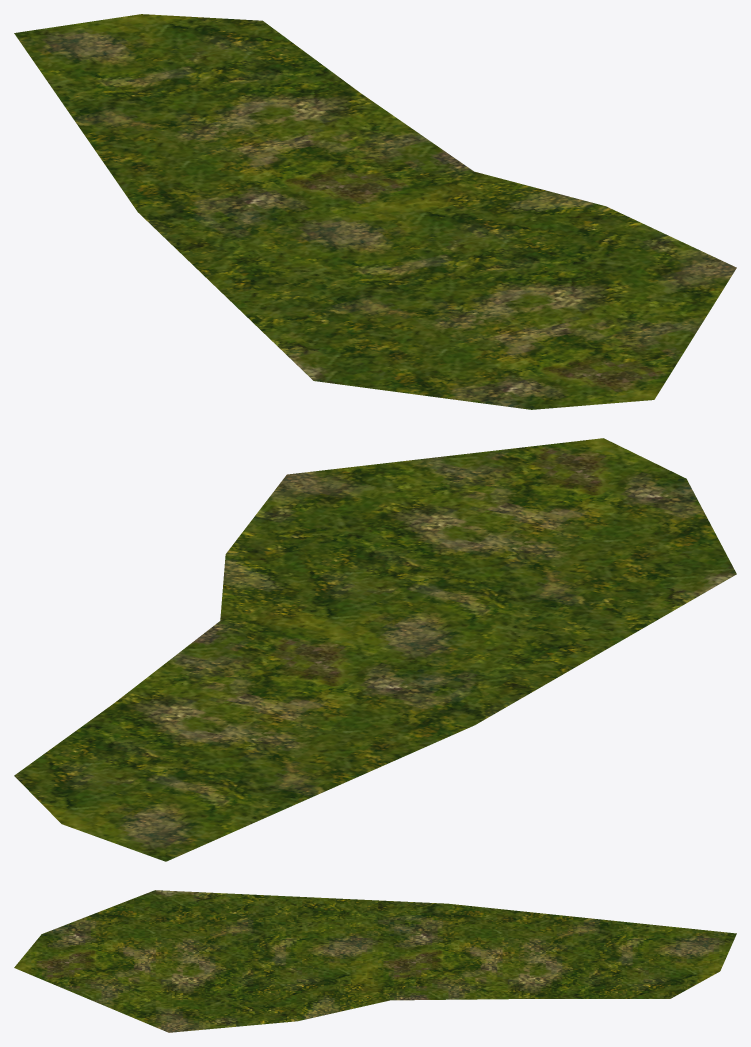
The model's file is OVERHILL_A_01_LINE24.fbx.
3 views of the same model, one above another, from view 1: azimuth 30°, elevation 25°; view 2: azimuth 150°, elevation 25°; view 3: azimuth 270°, elevation 25° (orthographic). The views are drawn at different scales.
Parts seen in each view (by area): view 1: OVERHILL_A_01_LINE24; view 2: OVERHILL_A_01_LINE24; view 3: OVERHILL_A_01_LINE24.
Part boxes in pixels (x1,y1,x2,y2): OVERHILL_A_01_LINE24: (14,14,736,409); OVERHILL_A_01_LINE24: (14,438,736,861); OVERHILL_A_01_LINE24: (14,890,736,1032).
Bounding box in the file's own units: 19477 × 0.00679 × 41698.
1 material, 1 textured.
